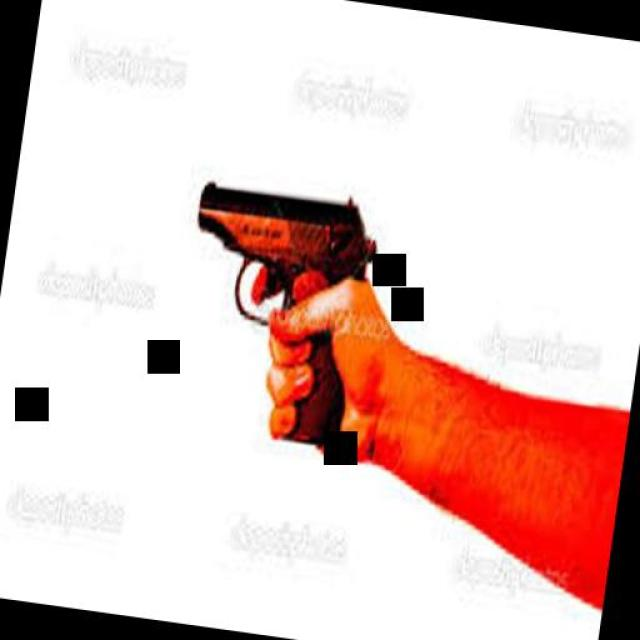gun: (162, 171, 384, 451)
